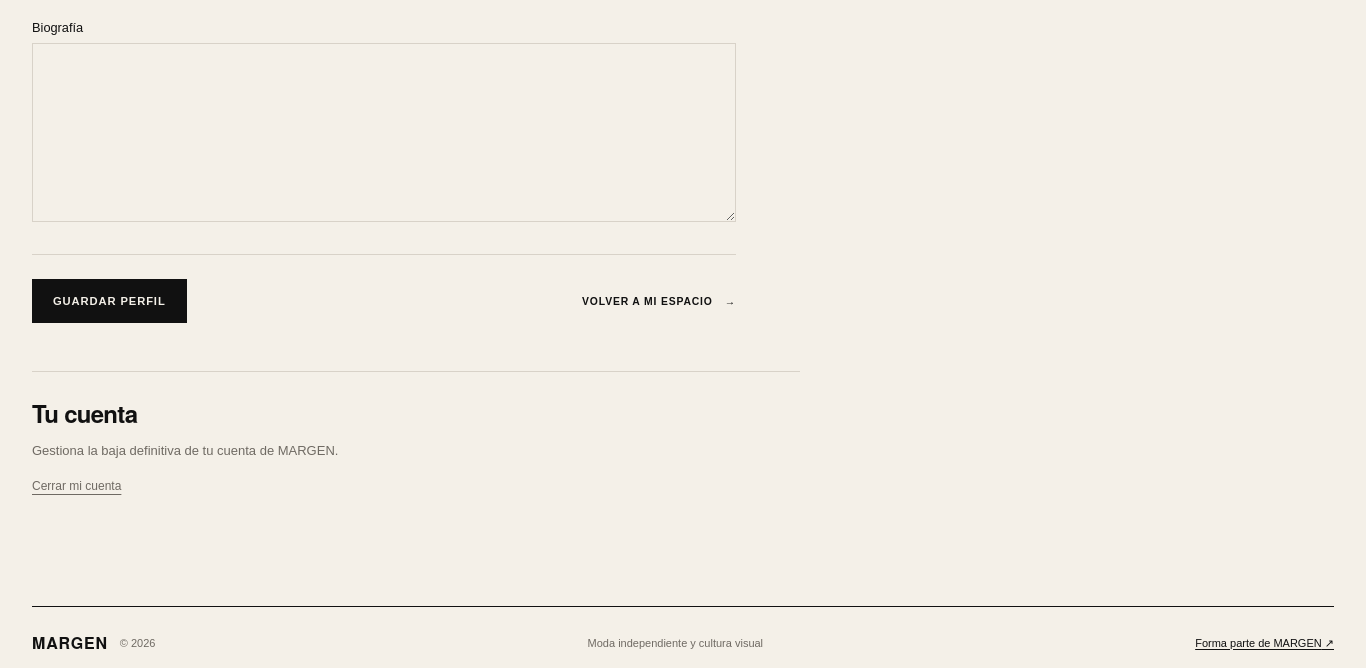
Explicit account closure › requires password, matching username, acknowledgement and a final confirmation
This screenshot has width=1366, height=668.
(page scrolled)
Click the button "Cerrar mi cuenta".
click(77, 486)  # box [32,480,121,494]
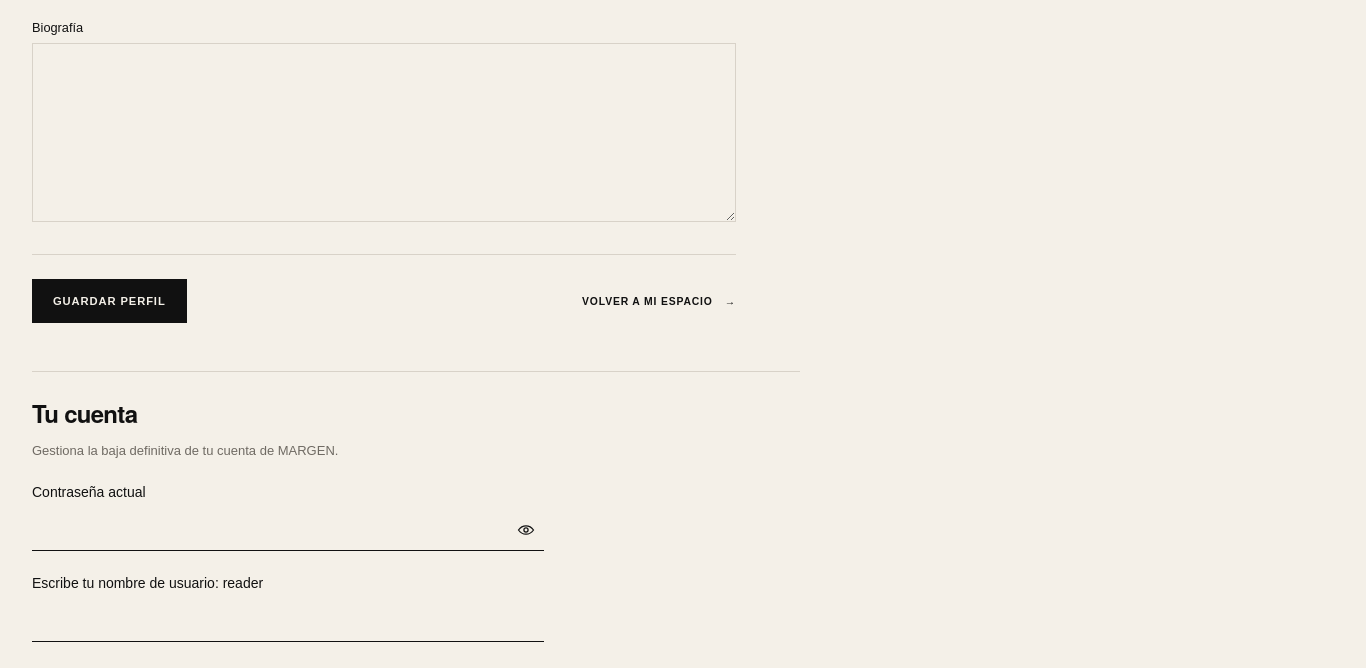
Type "CorrectPassword123!" into the password field labelled "Contraseña actual".
click(288, 530); type("CorrectPassword123!")  # box [32,508,544,552]
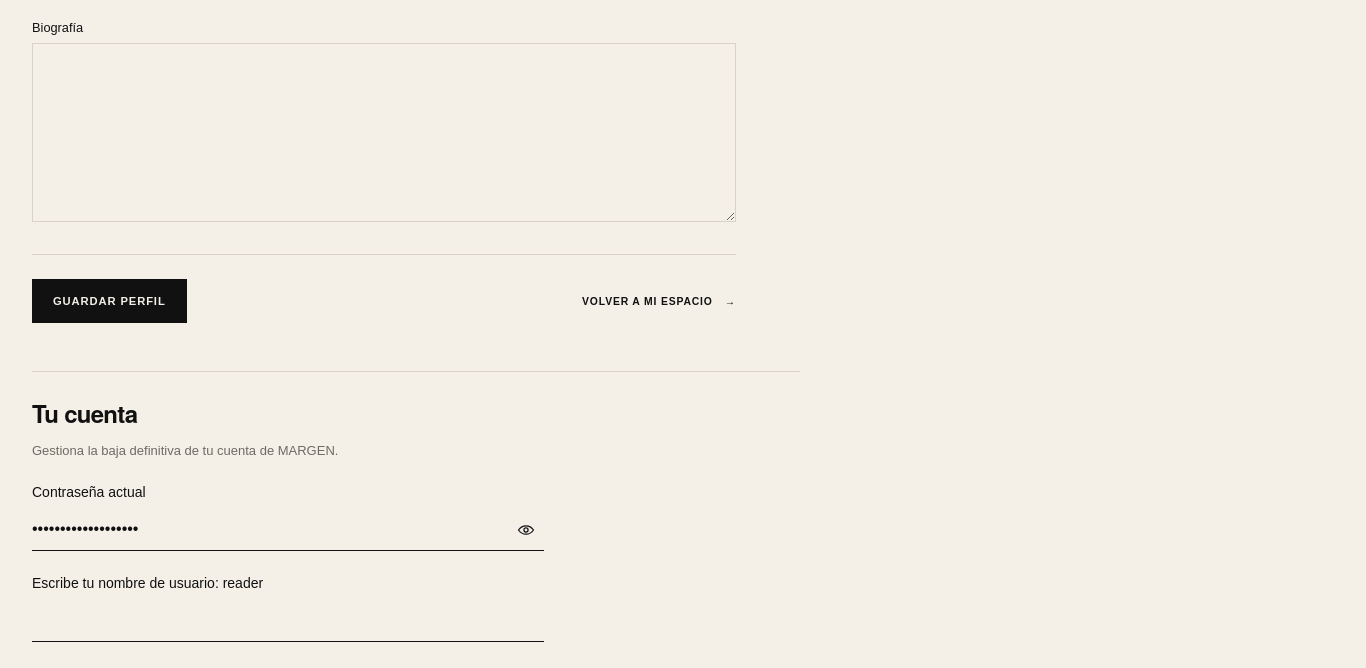
Type "reader" into the field labelled "Escribe tu nombre de usuario: reader".
click(288, 621); type("reader")  # box [32,600,544,642]
(page scrolled)
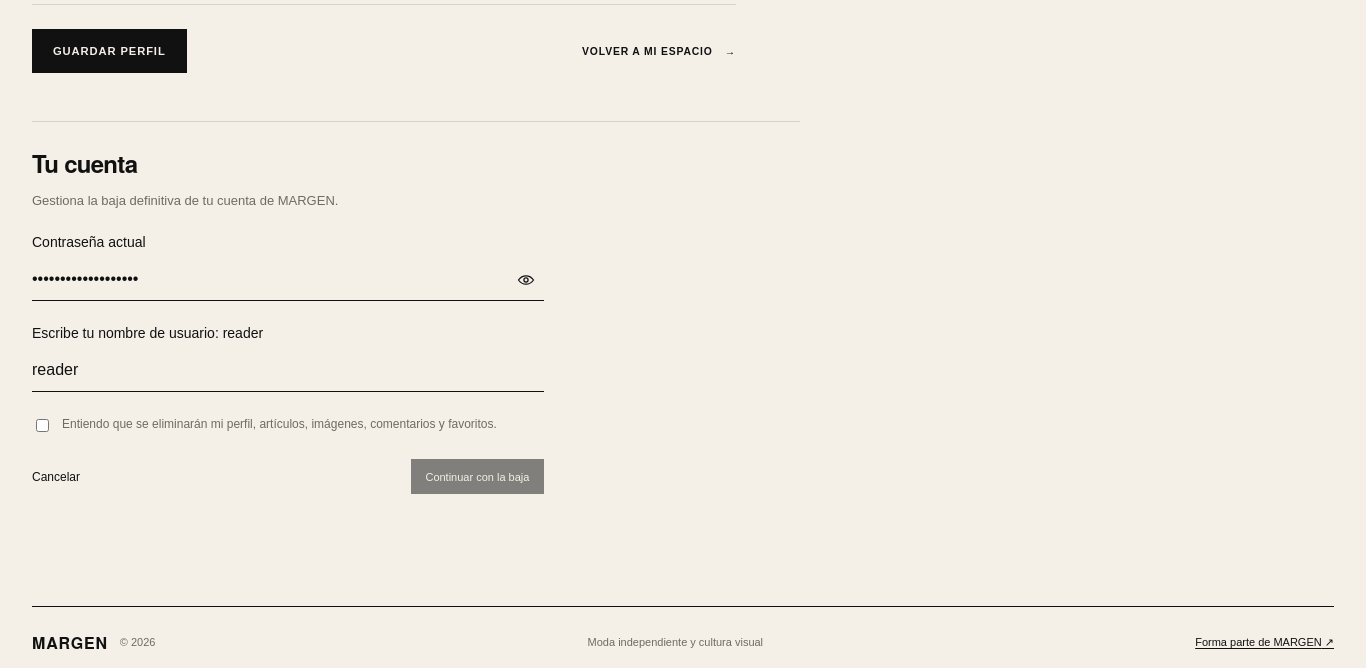
Click the checkbox labelled "Entiendo que se eliminarán".
click(42, 426)  # box [36,420,49,432]
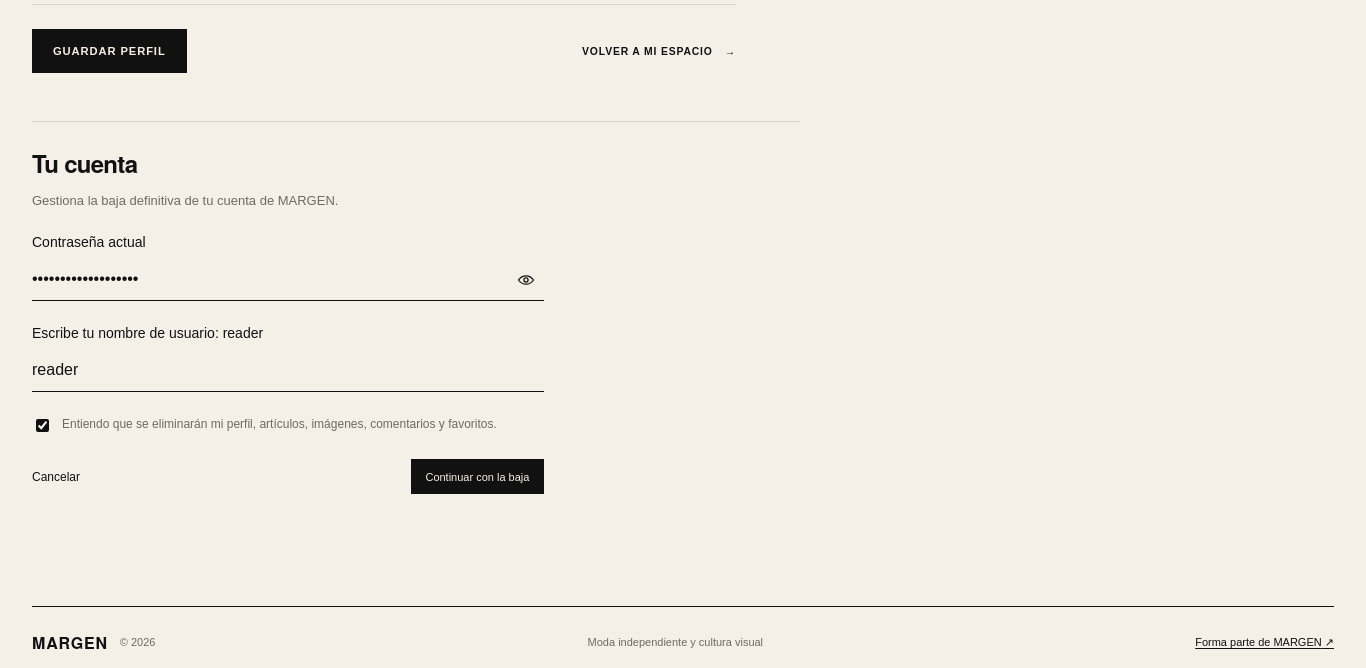
Click the button "Continuar con la baja".
click(477, 477)  # box [411,460,544,494]
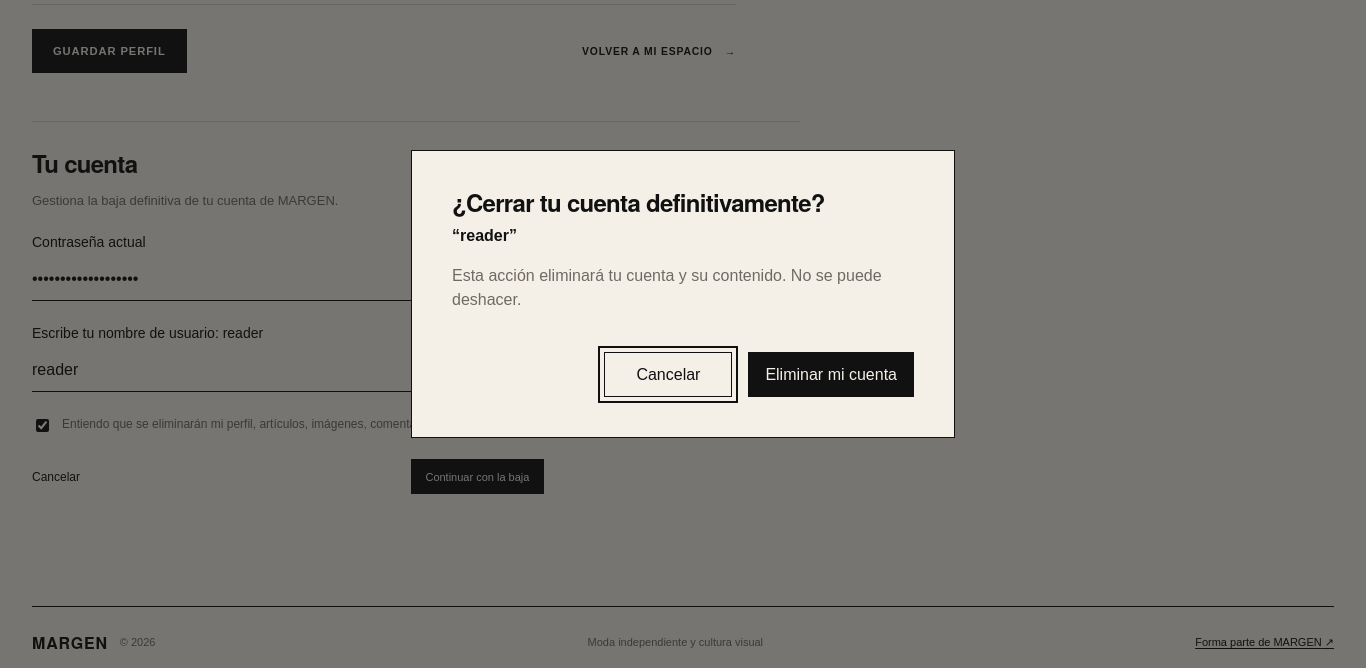
Expected: the dialog shows "No se puede deshacer", [452,267,882,308]
Click the button "Eliminar mi cuenta".
click(831, 375)  # box [748,352,914,397]
(page scrolled)
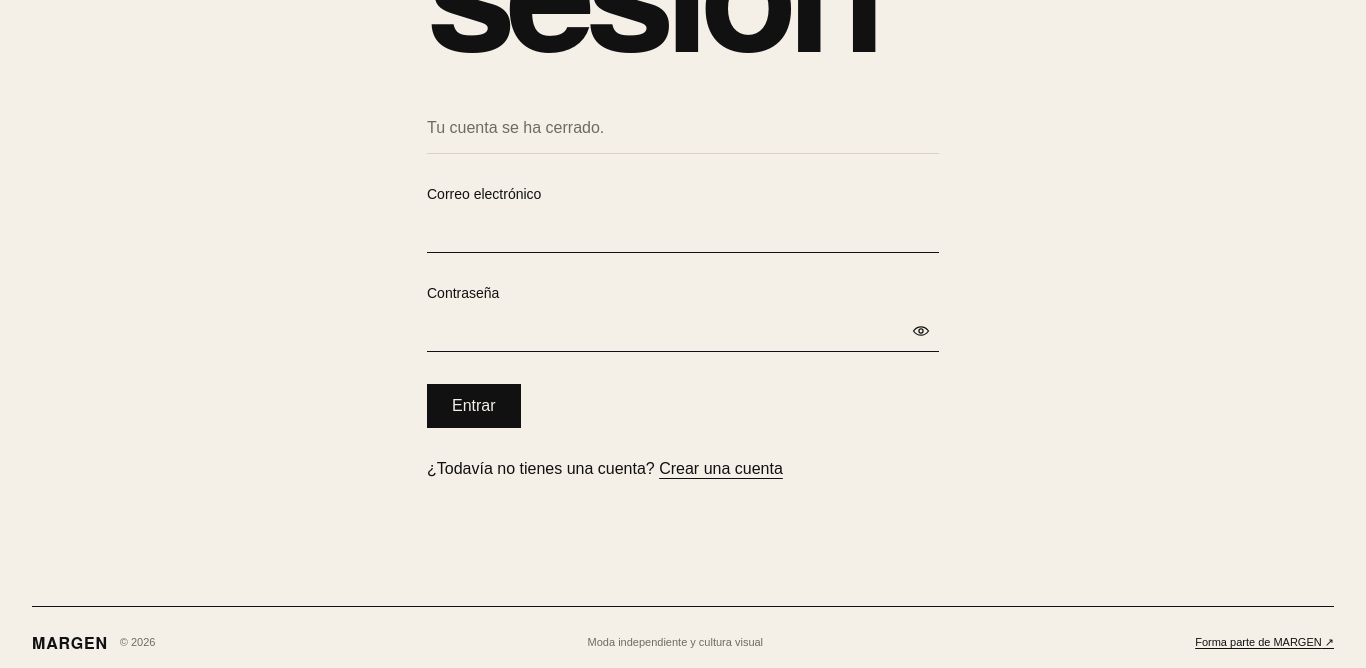
Expected: the text "Tu cuenta se ha cerrado." is shown, [427,103,939,154]
